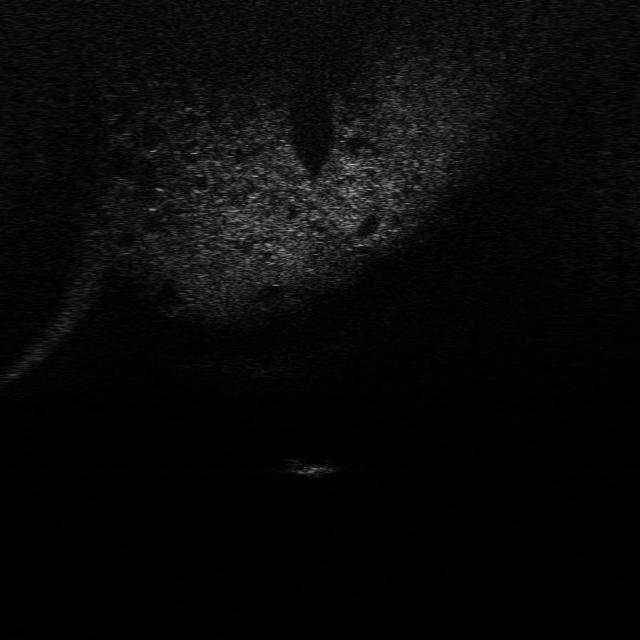cube: (280, 446, 342, 480)
